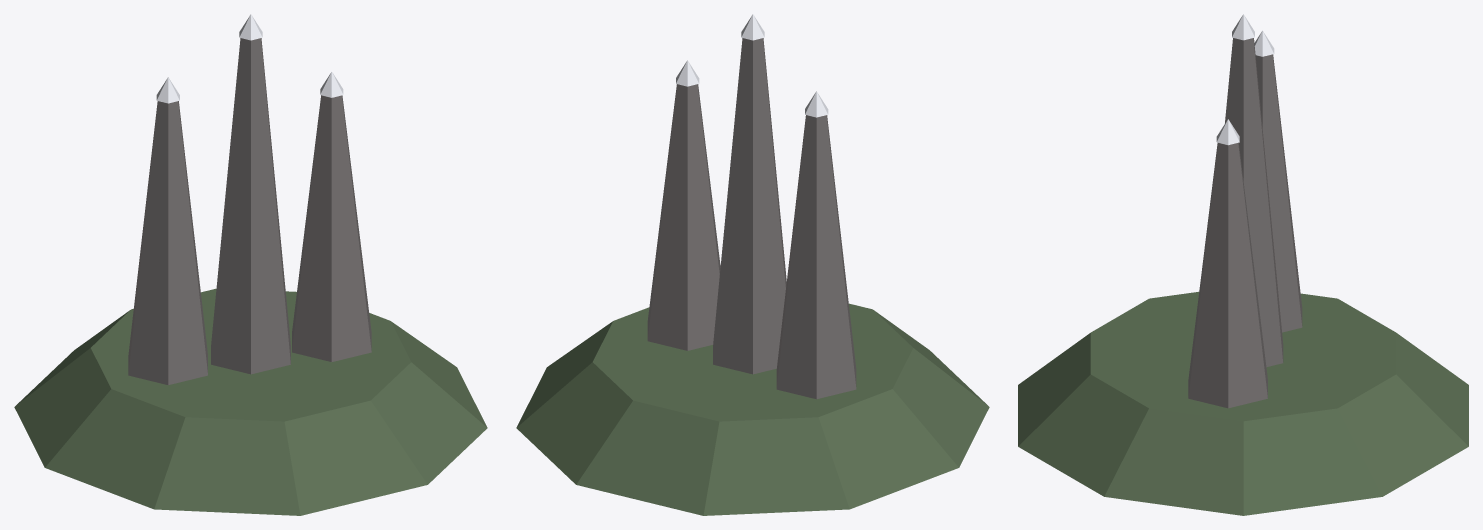
File: torres_del_paine.glb
3 renders of one model, left to right at view 1: azimuth 30°, elevation 25°; view 2: azimuth 150°, elevation 25°; view 3: azimuth 270°, elevation 25°, orthographic.
Parts seen in each view (by area): view 1: torres_del_paine; view 2: torres_del_paine; view 3: torres_del_paine.
Boxes of the visible parts, bbox=[...] form: torres_del_paine: bbox=[14, 14, 487, 515]; torres_del_paine: bbox=[516, 14, 989, 515]; torres_del_paine: bbox=[1018, 14, 1468, 515].
Bounding box in the file's own units: 1.24 × 1.16 × 1.18.
